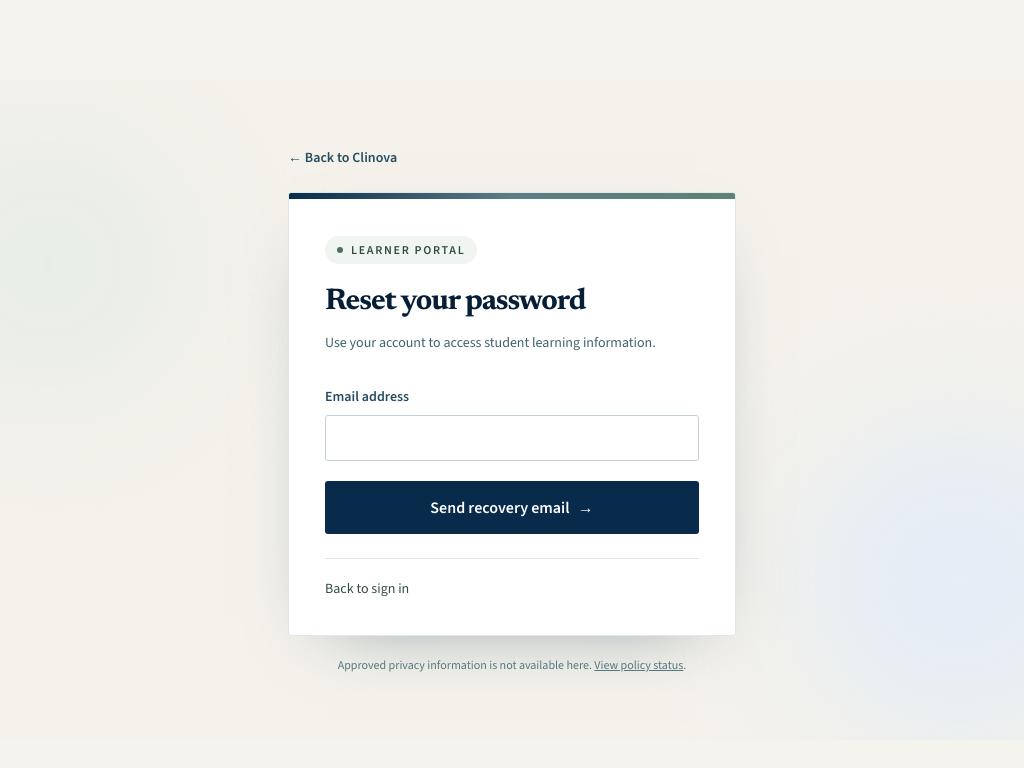
Scenario: safe return targets and AuthPage validation › preserves a safe return target in the password recovery callback
Type "student@example.test" into the field labelled "Email address". click: x=512, y=438
box: x1=325 y1=415 x2=699 y2=461
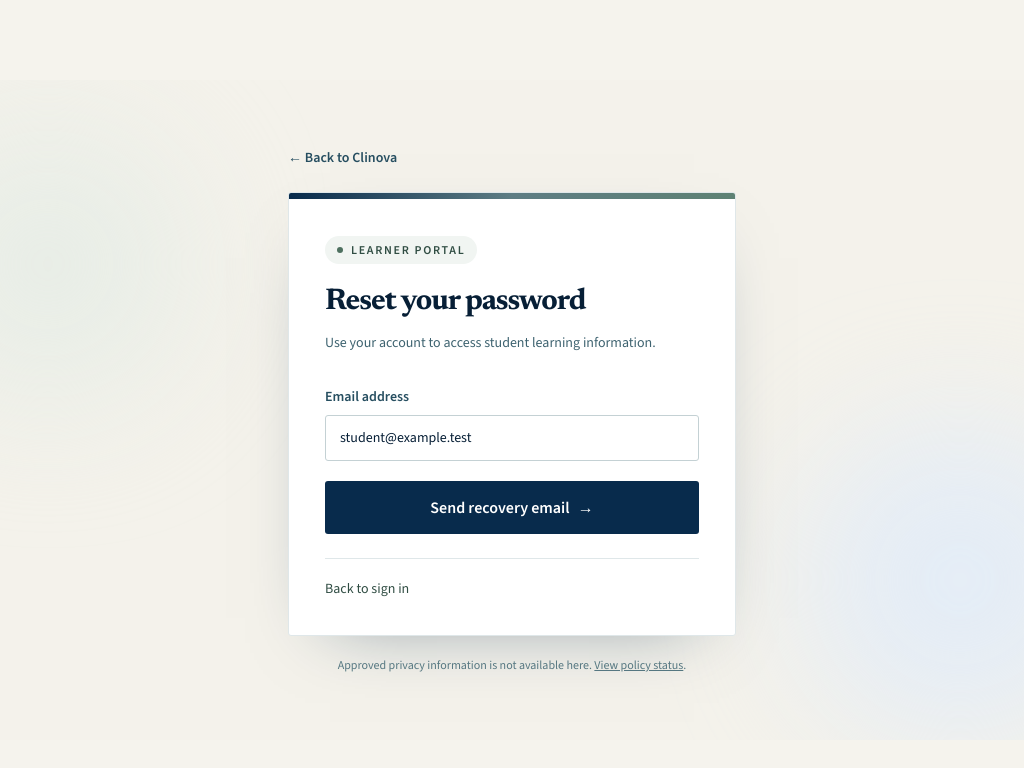
Submit the form, box x1=325 y1=387 x2=699 y2=534
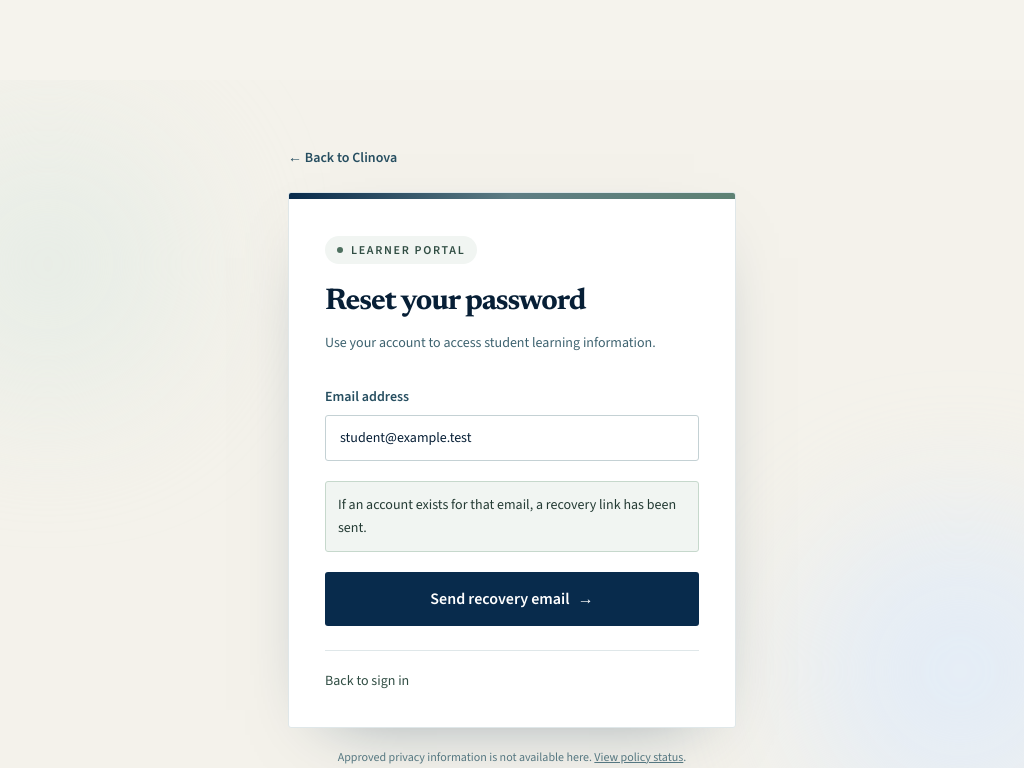
Expected: the message shows "a recovery link has been sent", x1=338 y1=495 x2=676 y2=537
